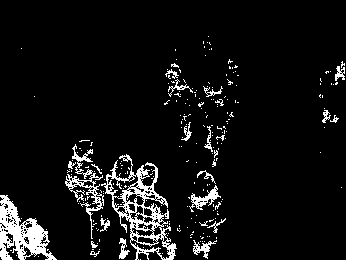person: (64, 139, 112, 256), (124, 160, 174, 260), (186, 169, 226, 259), (106, 151, 137, 259), (199, 80, 233, 169), (166, 65, 195, 143)
